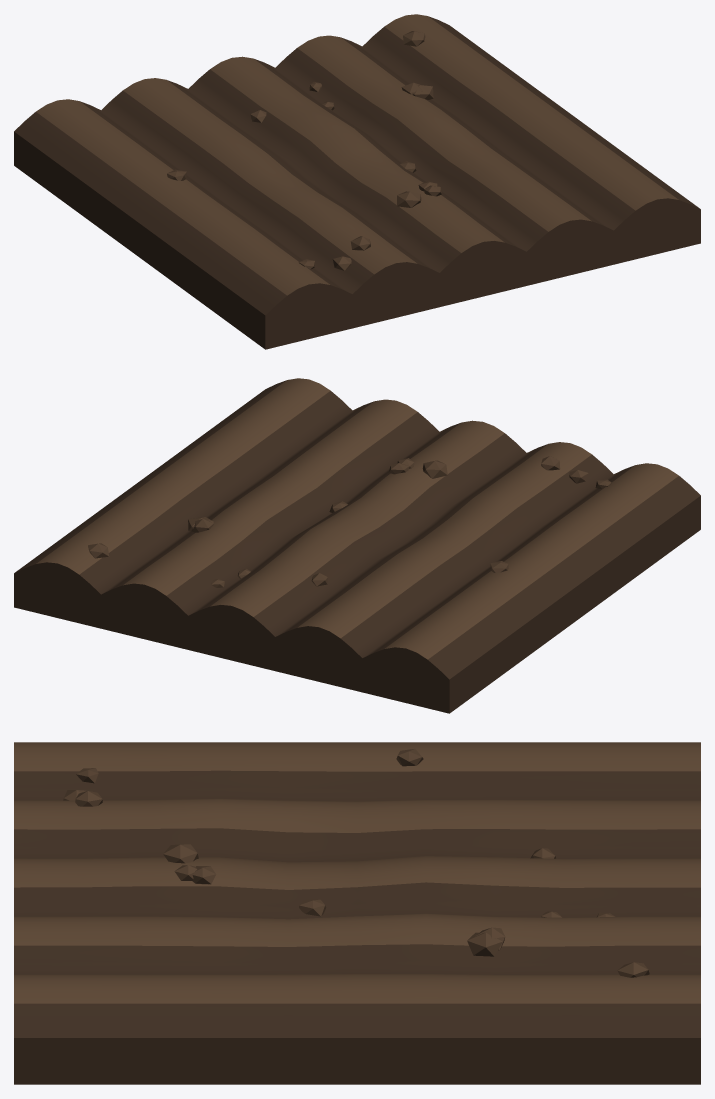
The model's file is Champ_Laboure_B.fbx.
3 views of the same model, one above another, from view 1: azimuth 30°, elevation 25°; view 2: azimuth 150°, elevation 25°; view 3: azimuth 270°, elevation 25° (orthographic). The views are drawn at different scales.
Visible parts, largest first — view 1: Champ_Laboure_B; view 2: Champ_Laboure_B; view 3: Champ_Laboure_B.
Part boxes in pixels (x1,y1,x2,y2): Champ_Laboure_B: [14, 14, 700, 349]; Champ_Laboure_B: [14, 378, 700, 713]; Champ_Laboure_B: [14, 742, 700, 1084].
Size of the model in its own units: 2 by 0.2777 by 2.
